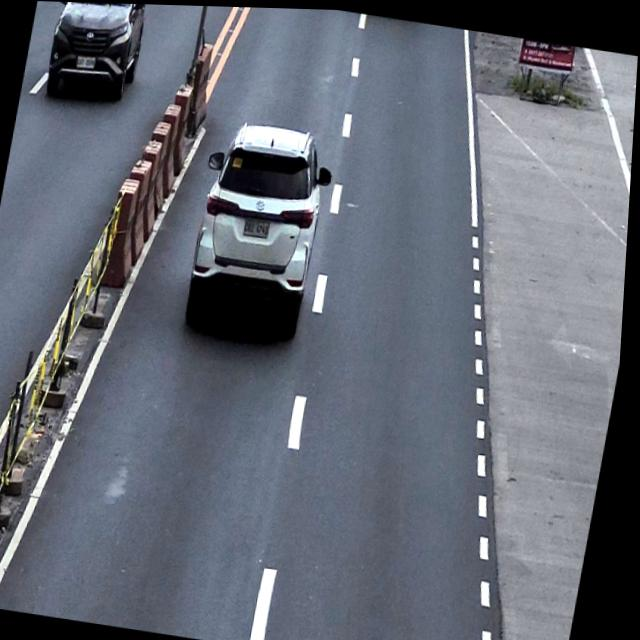Car: (182, 114, 342, 345), (37, 1, 153, 110)
License-Plate: (244, 213, 273, 238), (74, 54, 97, 69)
